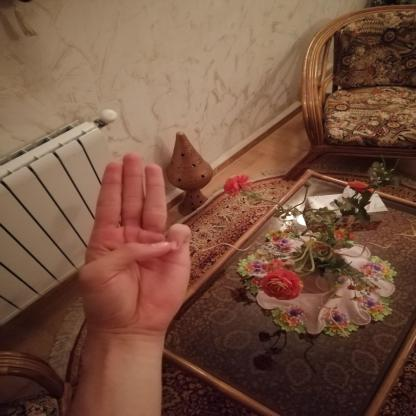THA: (62, 145, 200, 341)
